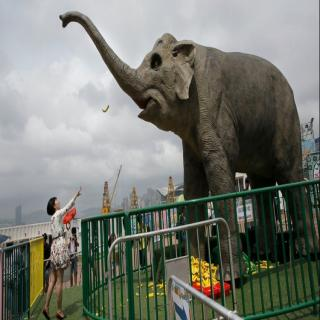Elephant: (59, 0, 319, 272)
